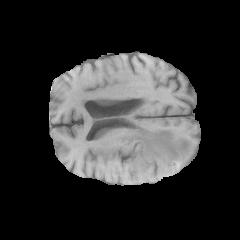glioma: (121, 129, 192, 182)
